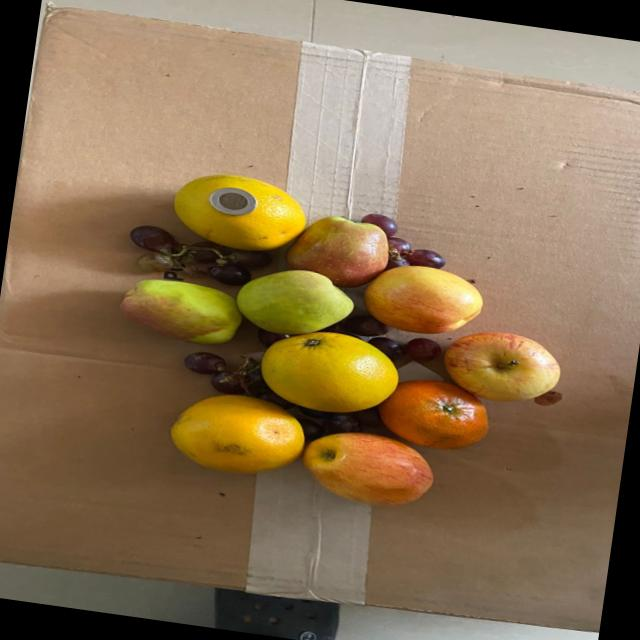moneda: (201, 184, 258, 222)
